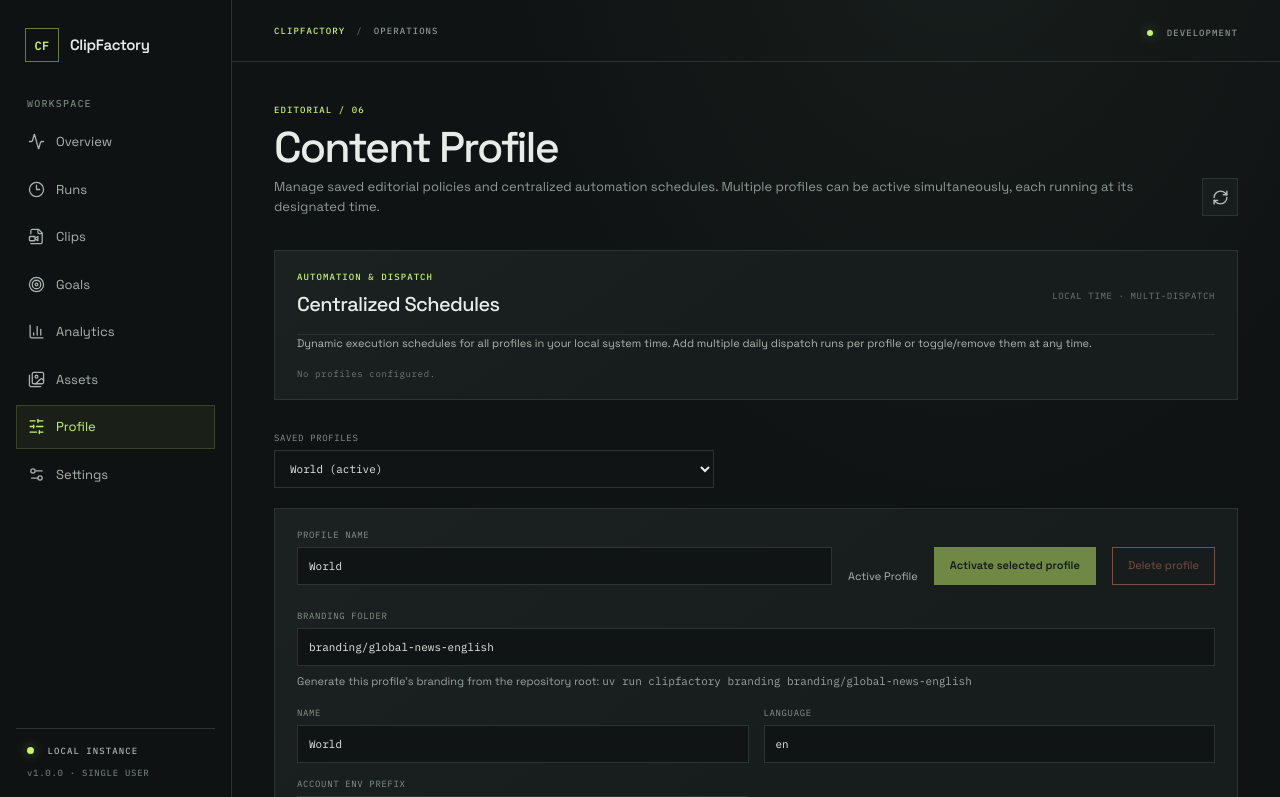
Test case: ClipFactory production pages › CF-REQ-360 CF-REQ-607 shows the selected profile's stable branding folder and command
expect the field labelled "Branding folder" holds "branding/global-news-english": met, box [297,628,1215,666]
expect the text "uv run clipfactory branding branding/global-news-english" is shown: met, box [602,674,972,688]
Select "Football" in the dropdown labelled "Saved profiles" at (494, 469), box [274,450,714,488]
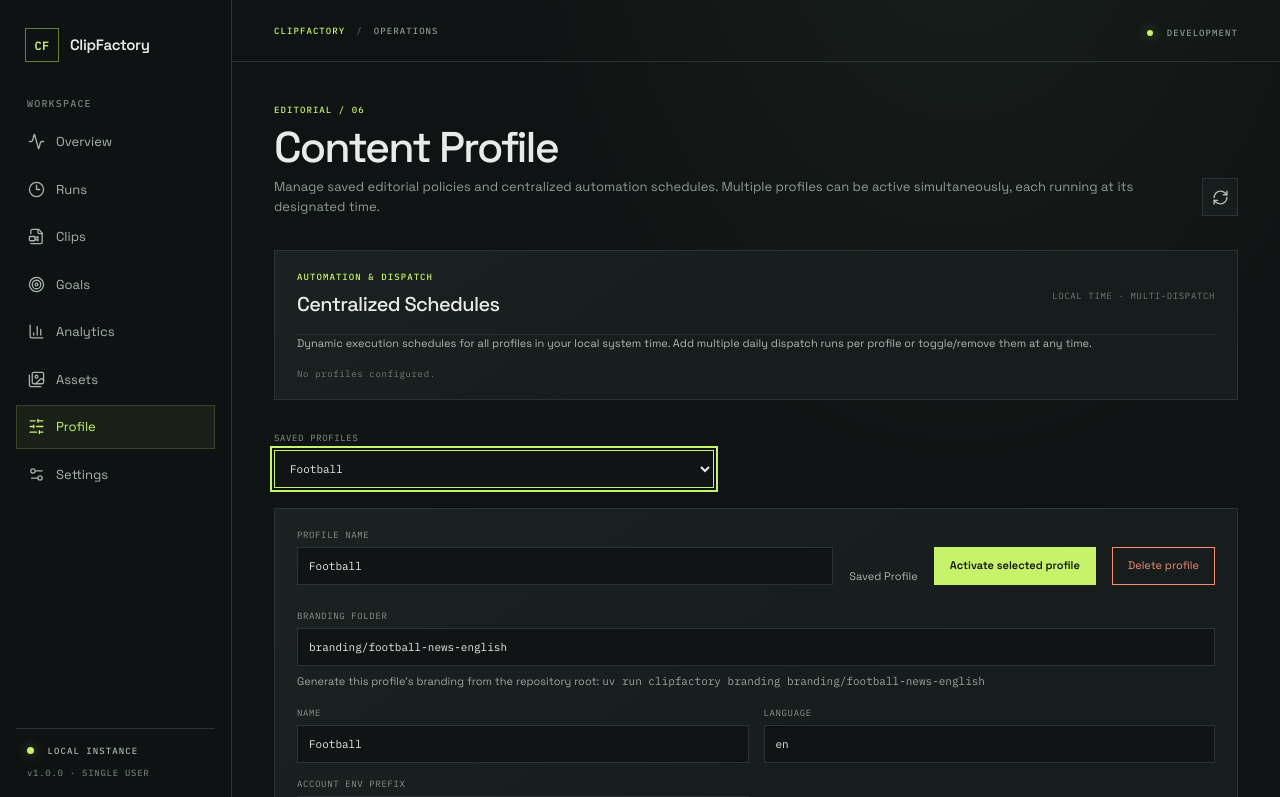
expect the field labelled "Branding folder" holds "branding/football-news-english": met, box [297,628,1215,666]
expect the text "uv run clipfactory branding branding/football-news-english" is shown: met, box [602,674,985,688]
expect the text "uv run clipfactory branding branding/global-news-english" is gone: met
